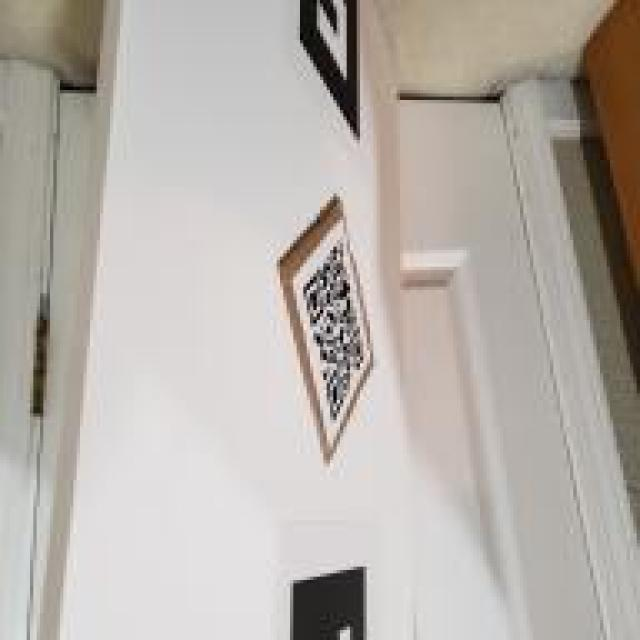qr_code: (302, 242, 362, 419)
